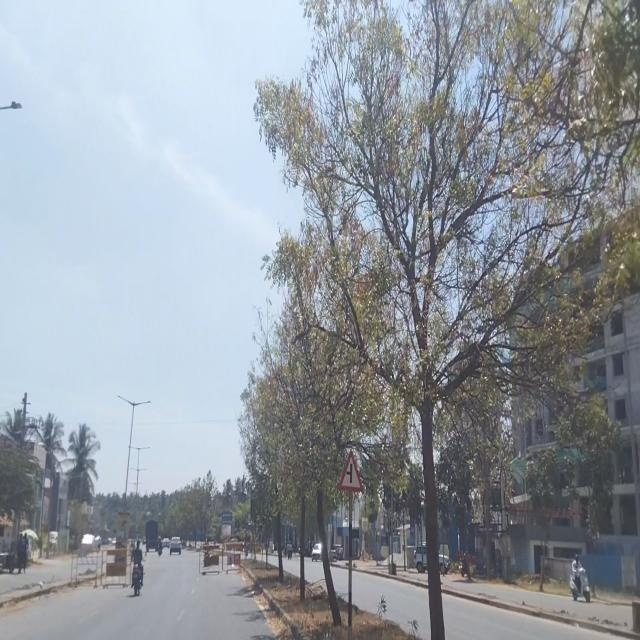bien_nguy_hiem: (338, 450, 364, 493)
